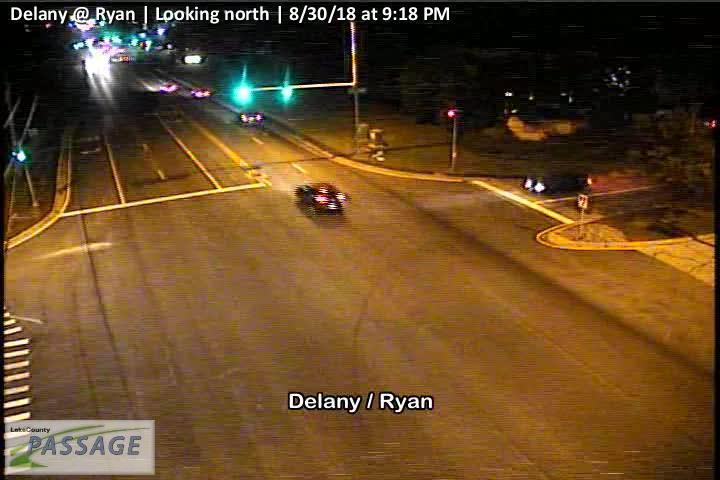SUV: (296, 182, 351, 215)
Sedan: (519, 170, 592, 194), (240, 109, 265, 126)
